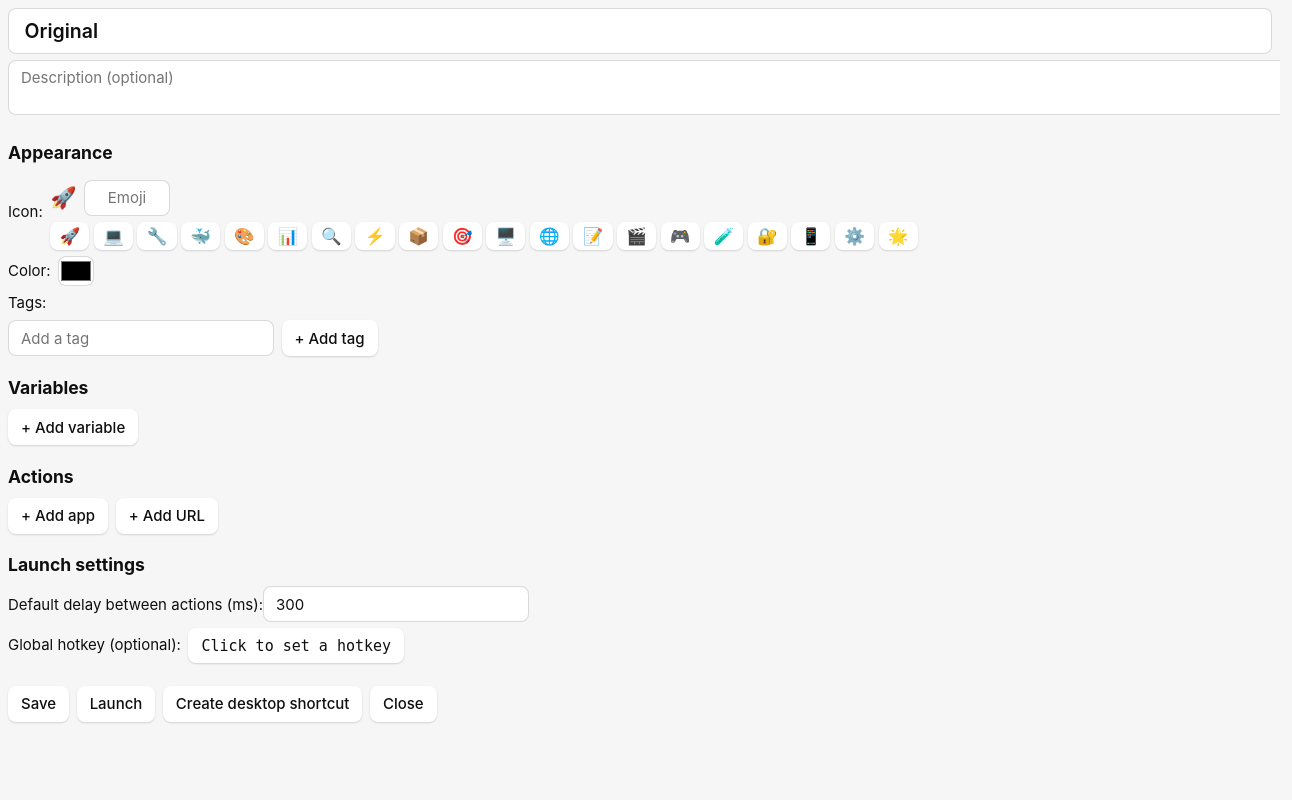
Scenario: WorkspaceEditor › disables Save and Create desktop shortcut when the name is blank, with a hint (#21)
Clear the field with placeholder "Workspace name". click: {"x": 640, "y": 31}
box: [8,8,1272,54]
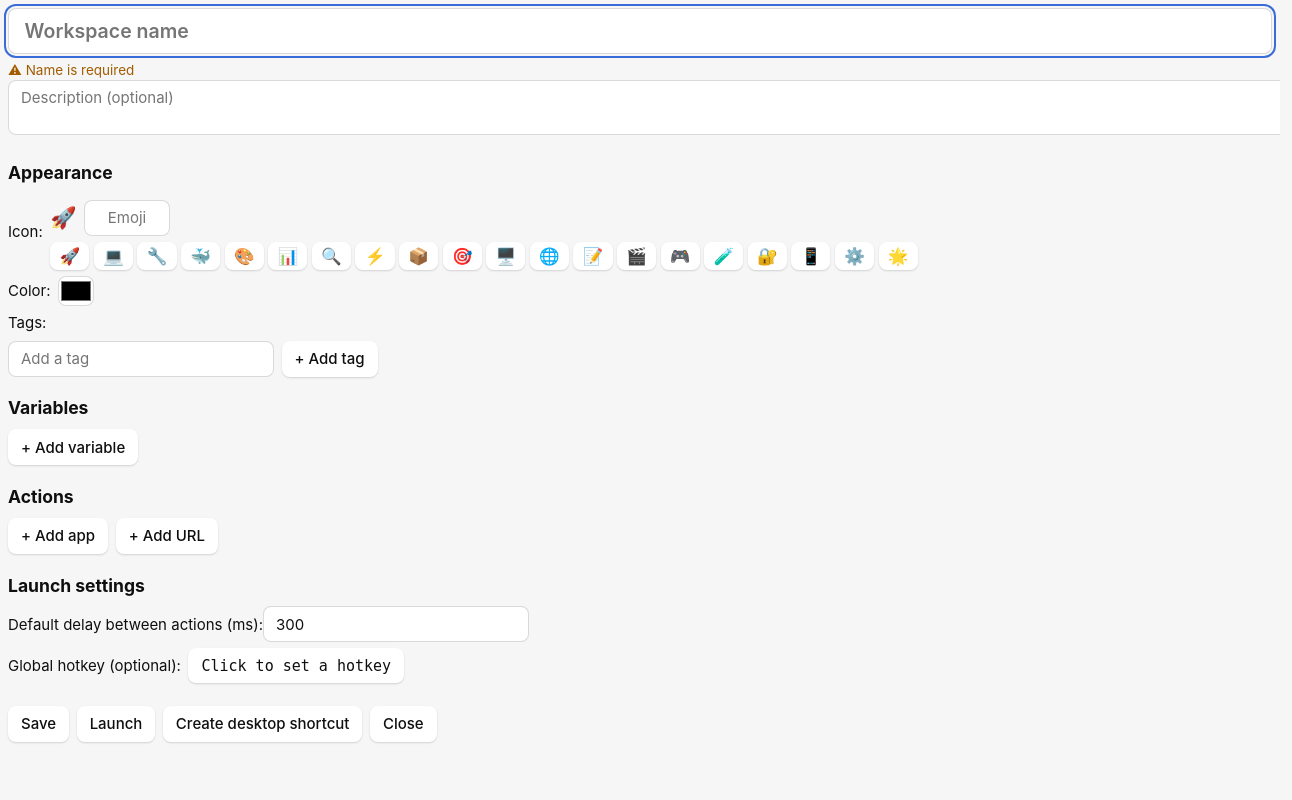
Check: the button "Save" is disabled, box [8,706,69,742]
Check: the button "Create desktop shortcut" is disabled, box [163,706,362,742]
Check: the text "⚠ Name is required" is shown, box [8,62,134,78]
